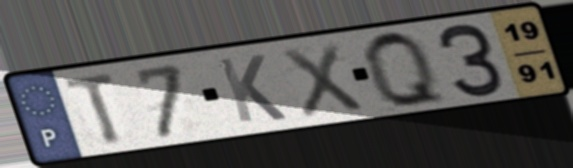3: (433, 20, 505, 100)
7: (133, 61, 186, 140)
K: (213, 52, 291, 126)
Q: (360, 28, 453, 111)
T: (60, 69, 129, 147)
X: (277, 40, 368, 121)
